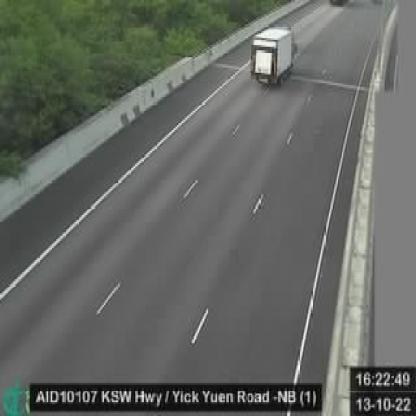Truck: (250, 23, 296, 88)
